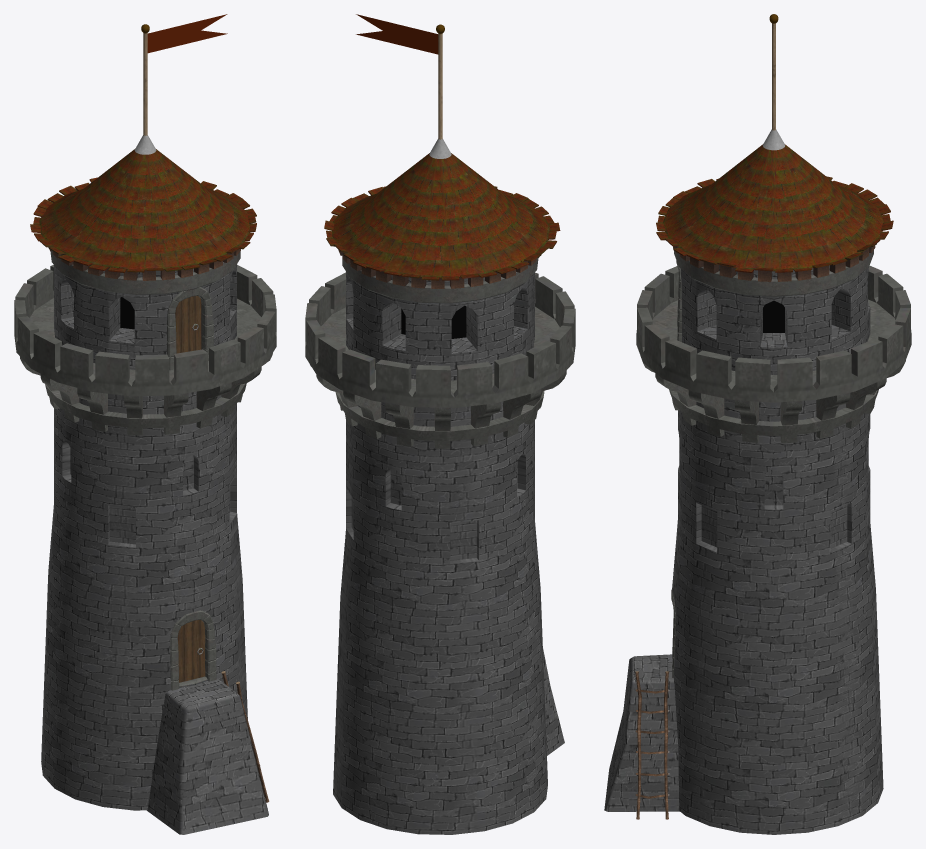
File: finalcastle.fbx
3 views of the same model, side by side, from view 1: azimuth 30°, elevation 25°; view 2: azimuth 150°, elevation 25°; view 3: azimuth 270°, elevation 25° (orthographic). The views are drawn at different scales.
Visible parts, largest first — view 1: castle2, flag; view 2: castle2, flag; view 3: castle2.
Part boxes in pixels (<box>): castle2: <box>14,24,276,834</box>; flag: <box>147,14,227,53</box>; castle2: <box>305,24,575,834</box>; flag: <box>356,14,438,54</box>; castle2: <box>604,14,911,834</box>.
Bounding box in the file's own units: 717 × 2232 × 801.
1 material, 1 textured.
